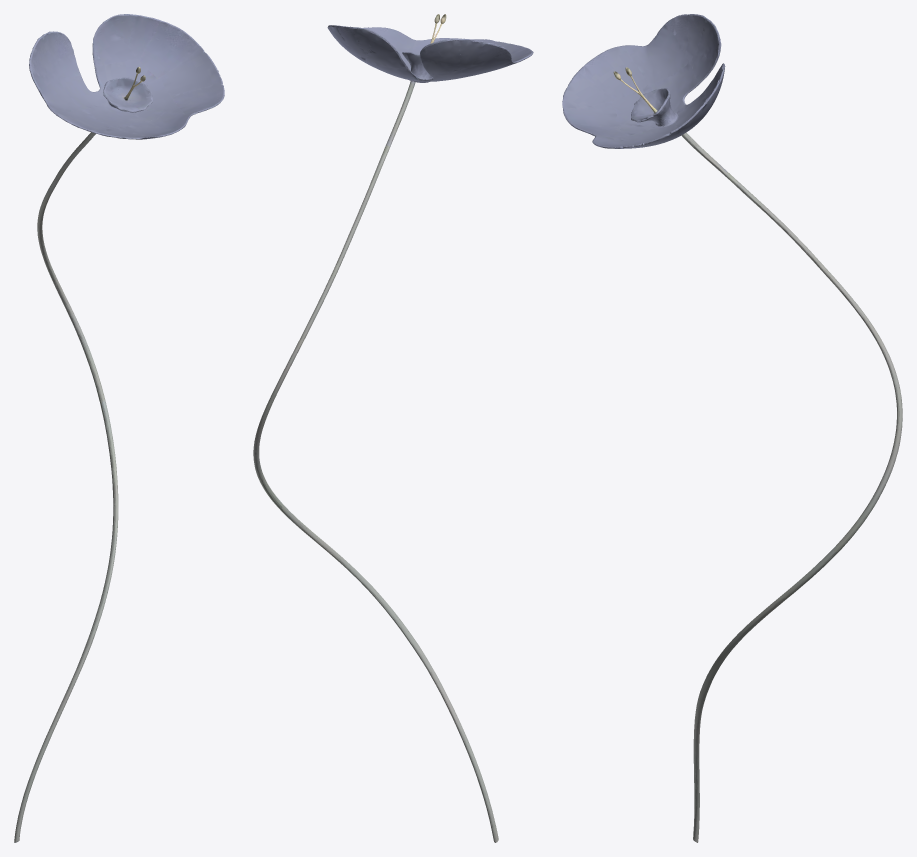
The model's file is 11_8_hamu_cntk_lila-opt-v63.glb.
The picture shows the model from 3 angles, left to right: view 1: azimuth 30°, elevation 25°; view 2: azimuth 150°, elevation 25°; view 3: azimuth 270°, elevation 25°; orthographic projection. The views are drawn at different scales.
Visible parts, largest first — view 1: tripo_node_051e561d-8f3a-4f7d-8698-18b2823846f7.002; view 2: tripo_node_051e561d-8f3a-4f7d-8698-18b2823846f7.002; view 3: tripo_node_051e561d-8f3a-4f7d-8698-18b2823846f7.002.
Part boxes in pixels (left/top/right/bottom): tripo_node_051e561d-8f3a-4f7d-8698-18b2823846f7.002: left=14, top=14, right=224, bottom=842; tripo_node_051e561d-8f3a-4f7d-8698-18b2823846f7.002: left=253, top=14, right=533, bottom=842; tripo_node_051e561d-8f3a-4f7d-8698-18b2823846f7.002: left=562, top=14, right=902, bottom=842.
Bounding box in the file's own units: 0.1053 × 0.4459 × 0.1636.
1 material, 1 textured.
